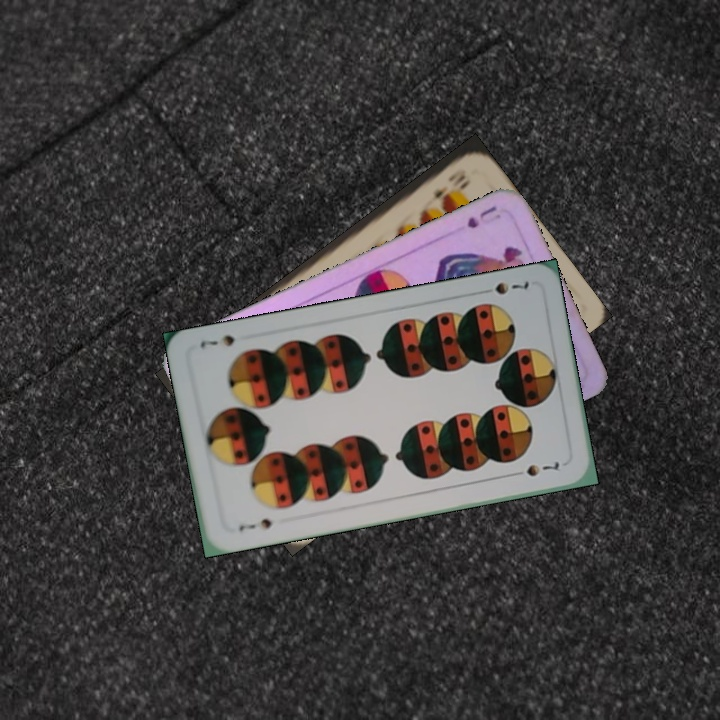E10: (429, 165, 469, 201)
S7: (475, 278, 531, 297), (235, 514, 274, 534)
SU: (462, 202, 504, 231)
